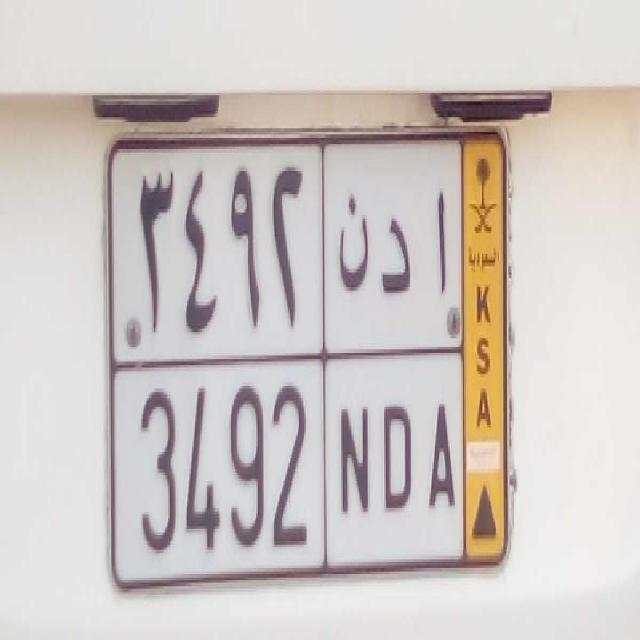license_plate: (116, 356, 464, 566)
